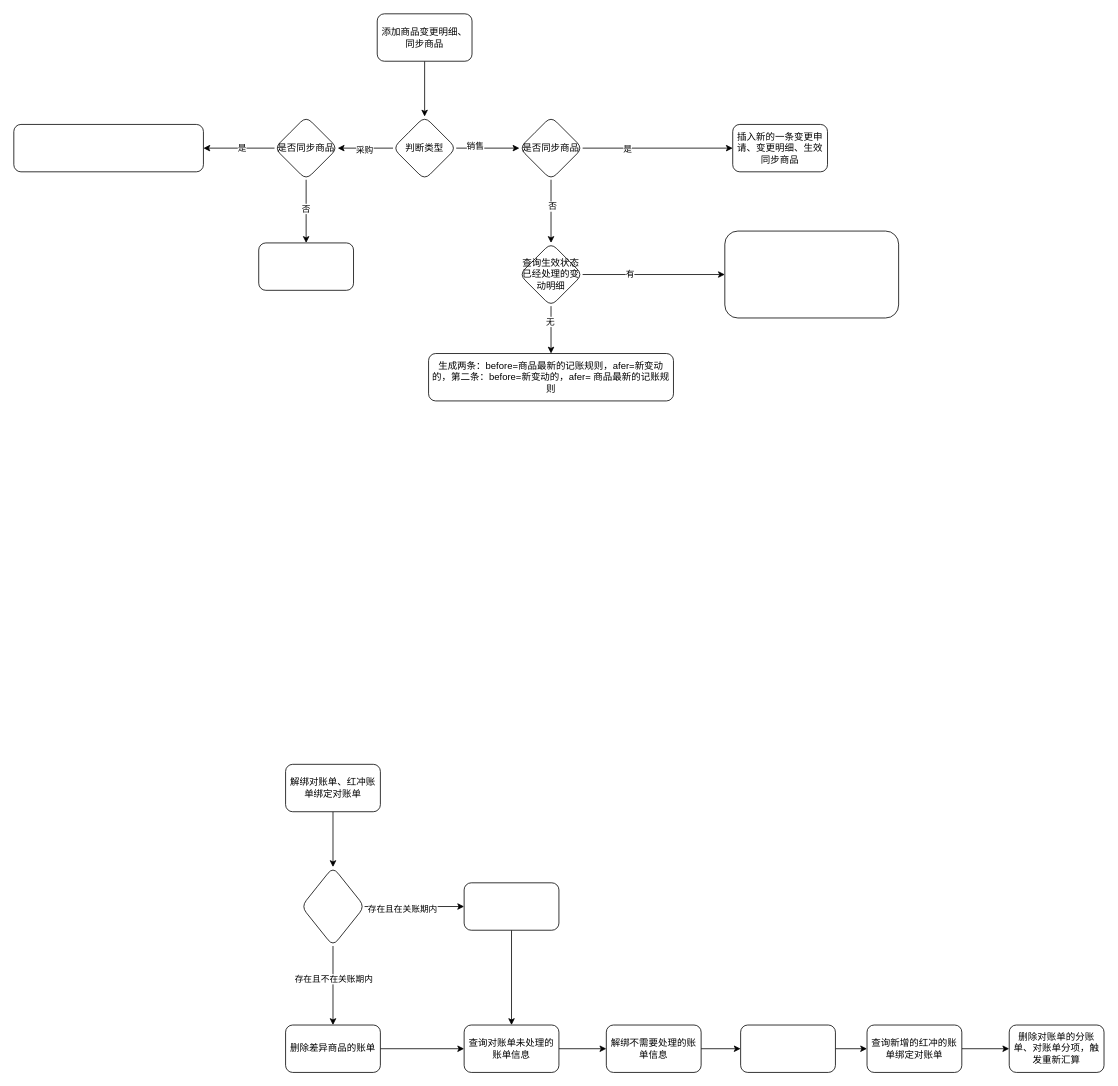
This 1118x1086 diagram has some shape labels left out. Here are the shapes that lost their labels. From the top down, the centre of each, then its label:
At pixel 108 148: "根据变更的信息、生效时间 插入对应的采购合同商品变动记录，并同步修改采购合同商品的信息".
At pixel 306 266: "根据变更的信息、生效时间 插入对应的采购合同商品变动记录".
At pixel 811 274: "生成两条：before=变动记录的after，afer=新变动的，第二条：before=新变动的，afer= 目前已经存在".
At pixel 333 906: "根据对账单查询是否存在差异账单".
At pixel 511 906: "生成差异商品的红冲账单，绑定对账单".
At pixel 787 1048: "查询已经处理的账单被删除掉的解绑对账单".
